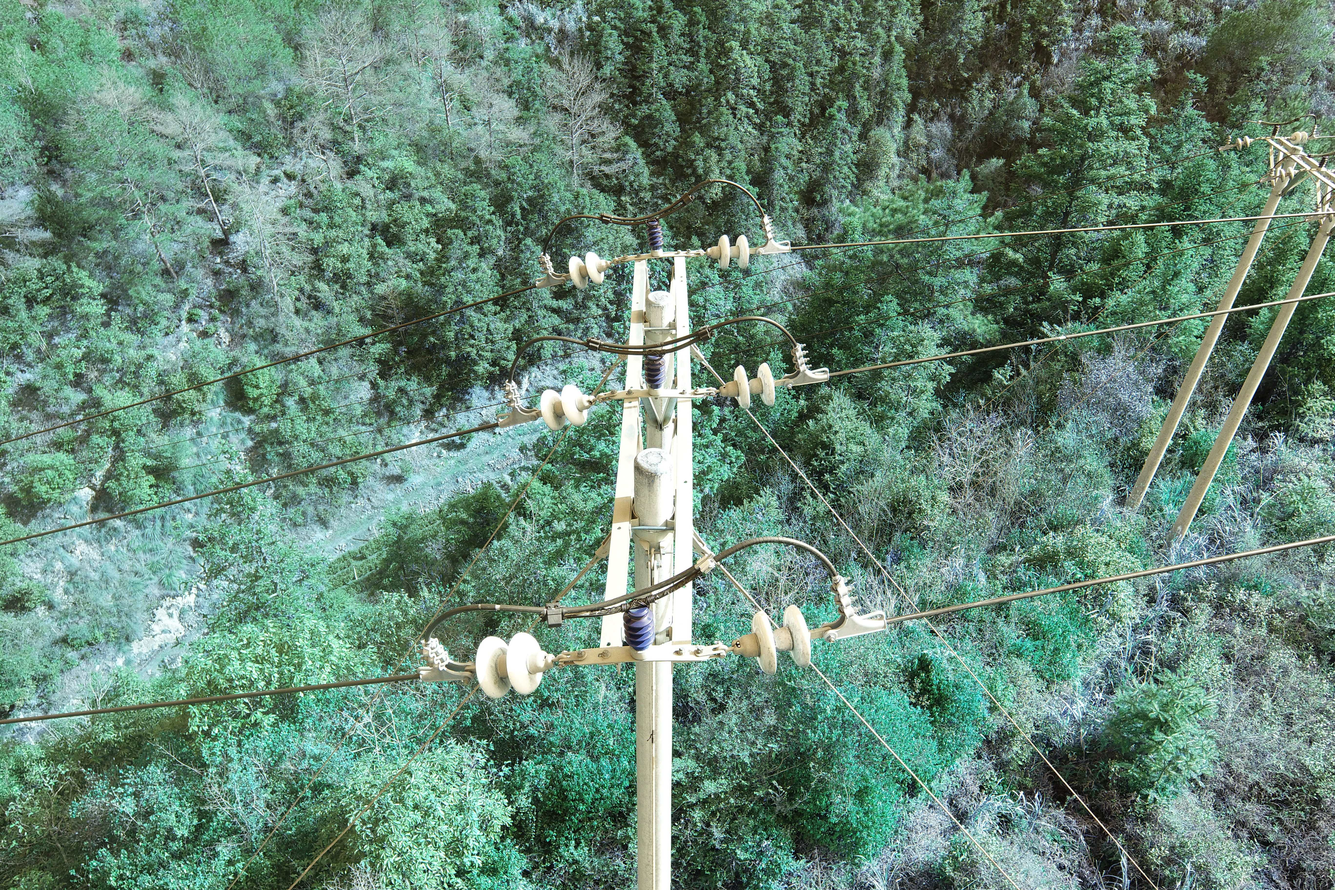severe_soiling_no_discharge_whole: (730, 601, 818, 679), (472, 628, 557, 702), (539, 380, 598, 433), (718, 359, 776, 412), (707, 230, 751, 274), (568, 249, 612, 291)
